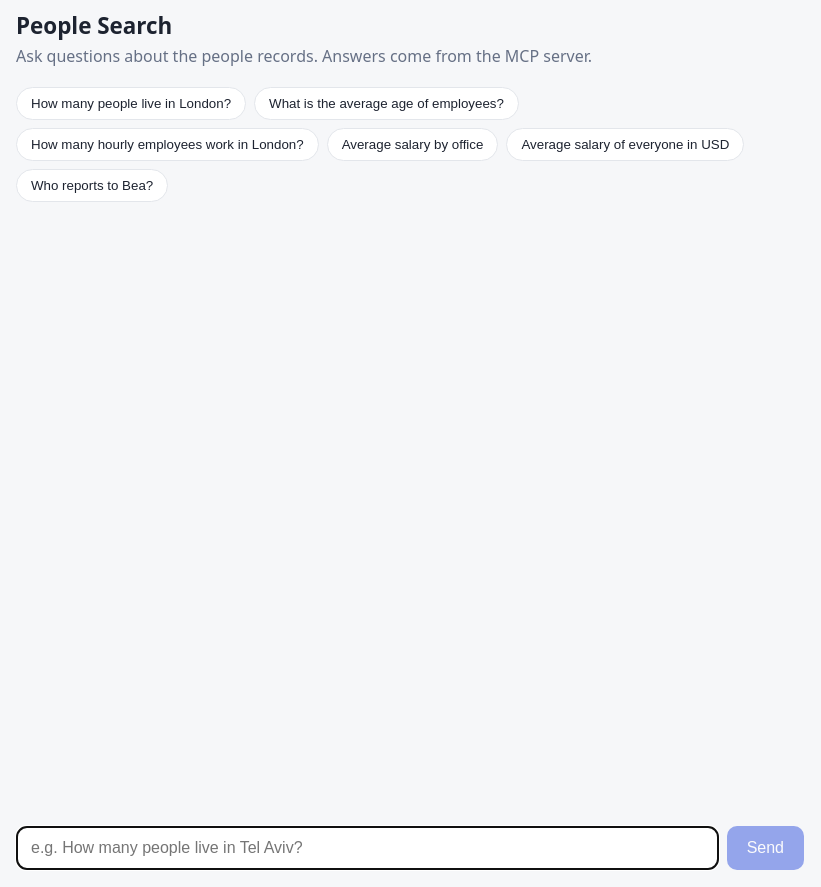
Test: People Search chat › reads a final event that has no trailing newline
Type "London?" into the field at coordinates (367, 848), box [16,826,719,870]
Then press Enter
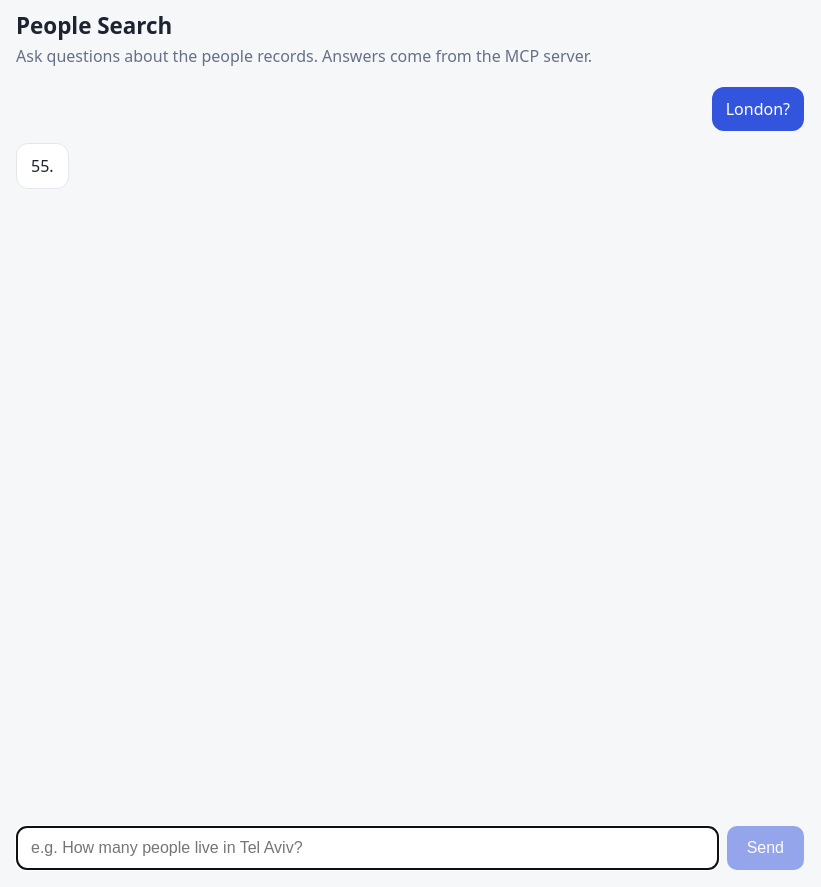
Check: the text "55." is shown, box [31,154,54,178]
